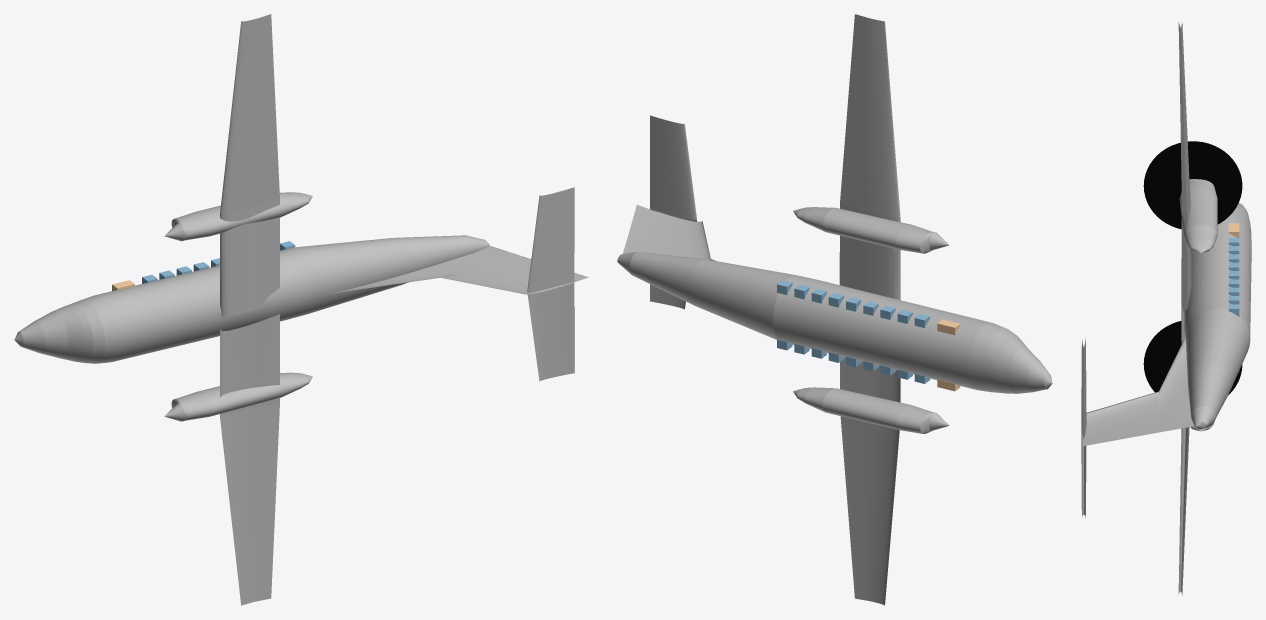
Rendered from De_Havilland_DHC8_100.gltf.
3 views of the same model, side by side, from view 1: azimuth 30°, elevation 25°; view 2: azimuth 150°, elevation 25°; view 3: azimuth 270°, elevation 25° (orthographic).
Parts seen in each view (by area): view 1: Renderer Node; view 2: Renderer Node; view 3: Renderer Node.
Boxes of the visible parts, <box> form: Renderer Node: <box>14,14,588,605</box>; Renderer Node: <box>617,14,1052,605</box>; Renderer Node: <box>1081,22,1251,595</box>.
Size of the model in its own units: 22.66 by 25.57 by 6.84.
